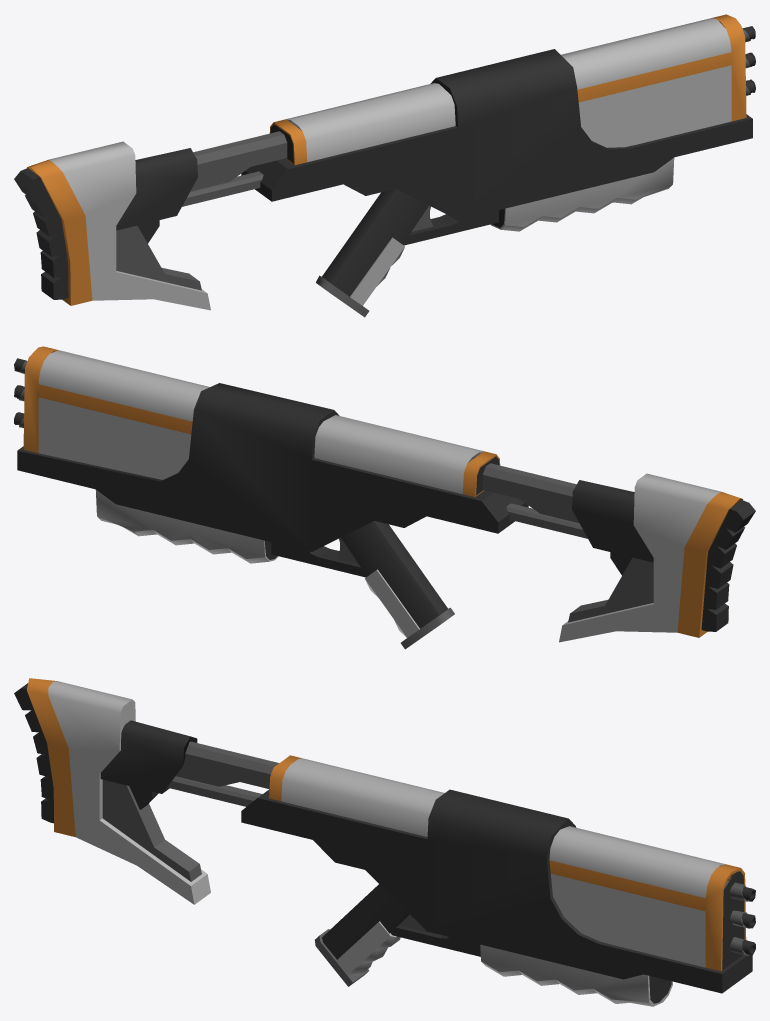
The picture shows the model from 3 angles, top to bottom: view 1: azimuth 30°, elevation 25°; view 2: azimuth 150°, elevation 25°; view 3: azimuth 330°, elevation 25°; orthographic projection.
Parts seen in each view (by area): view 1: AR_1; view 2: AR_1; view 3: AR_1.
Part boxes in pixels (x1,y1,x2,y2): AR_1: (14,14,755,317); AR_1: (14,346,755,649); AR_1: (14,678,755,1006).
Bounding box in the file's own units: 1.89 × 0.5528 × 0.1367.
